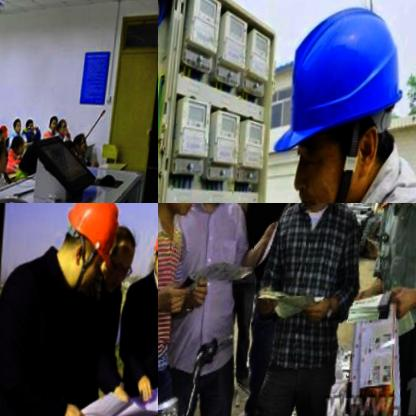head: (11, 134, 26, 160), (76, 134, 91, 158), (0, 141, 9, 177), (49, 114, 61, 135), (0, 128, 9, 154), (56, 120, 68, 137), (13, 117, 22, 135), (25, 118, 35, 134)
helmet: (263, 0, 416, 203), (55, 203, 123, 290), (150, 219, 158, 292)
